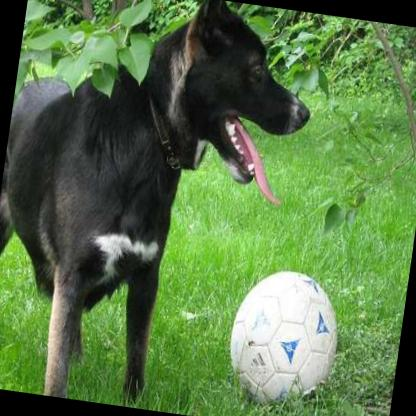ball: (221, 264, 346, 413)
